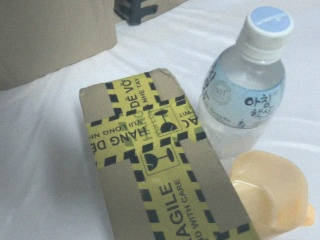bottle: (196, 5, 294, 160)
box: (80, 69, 267, 240), (114, 1, 205, 25)
cup: (226, 150, 315, 240)
